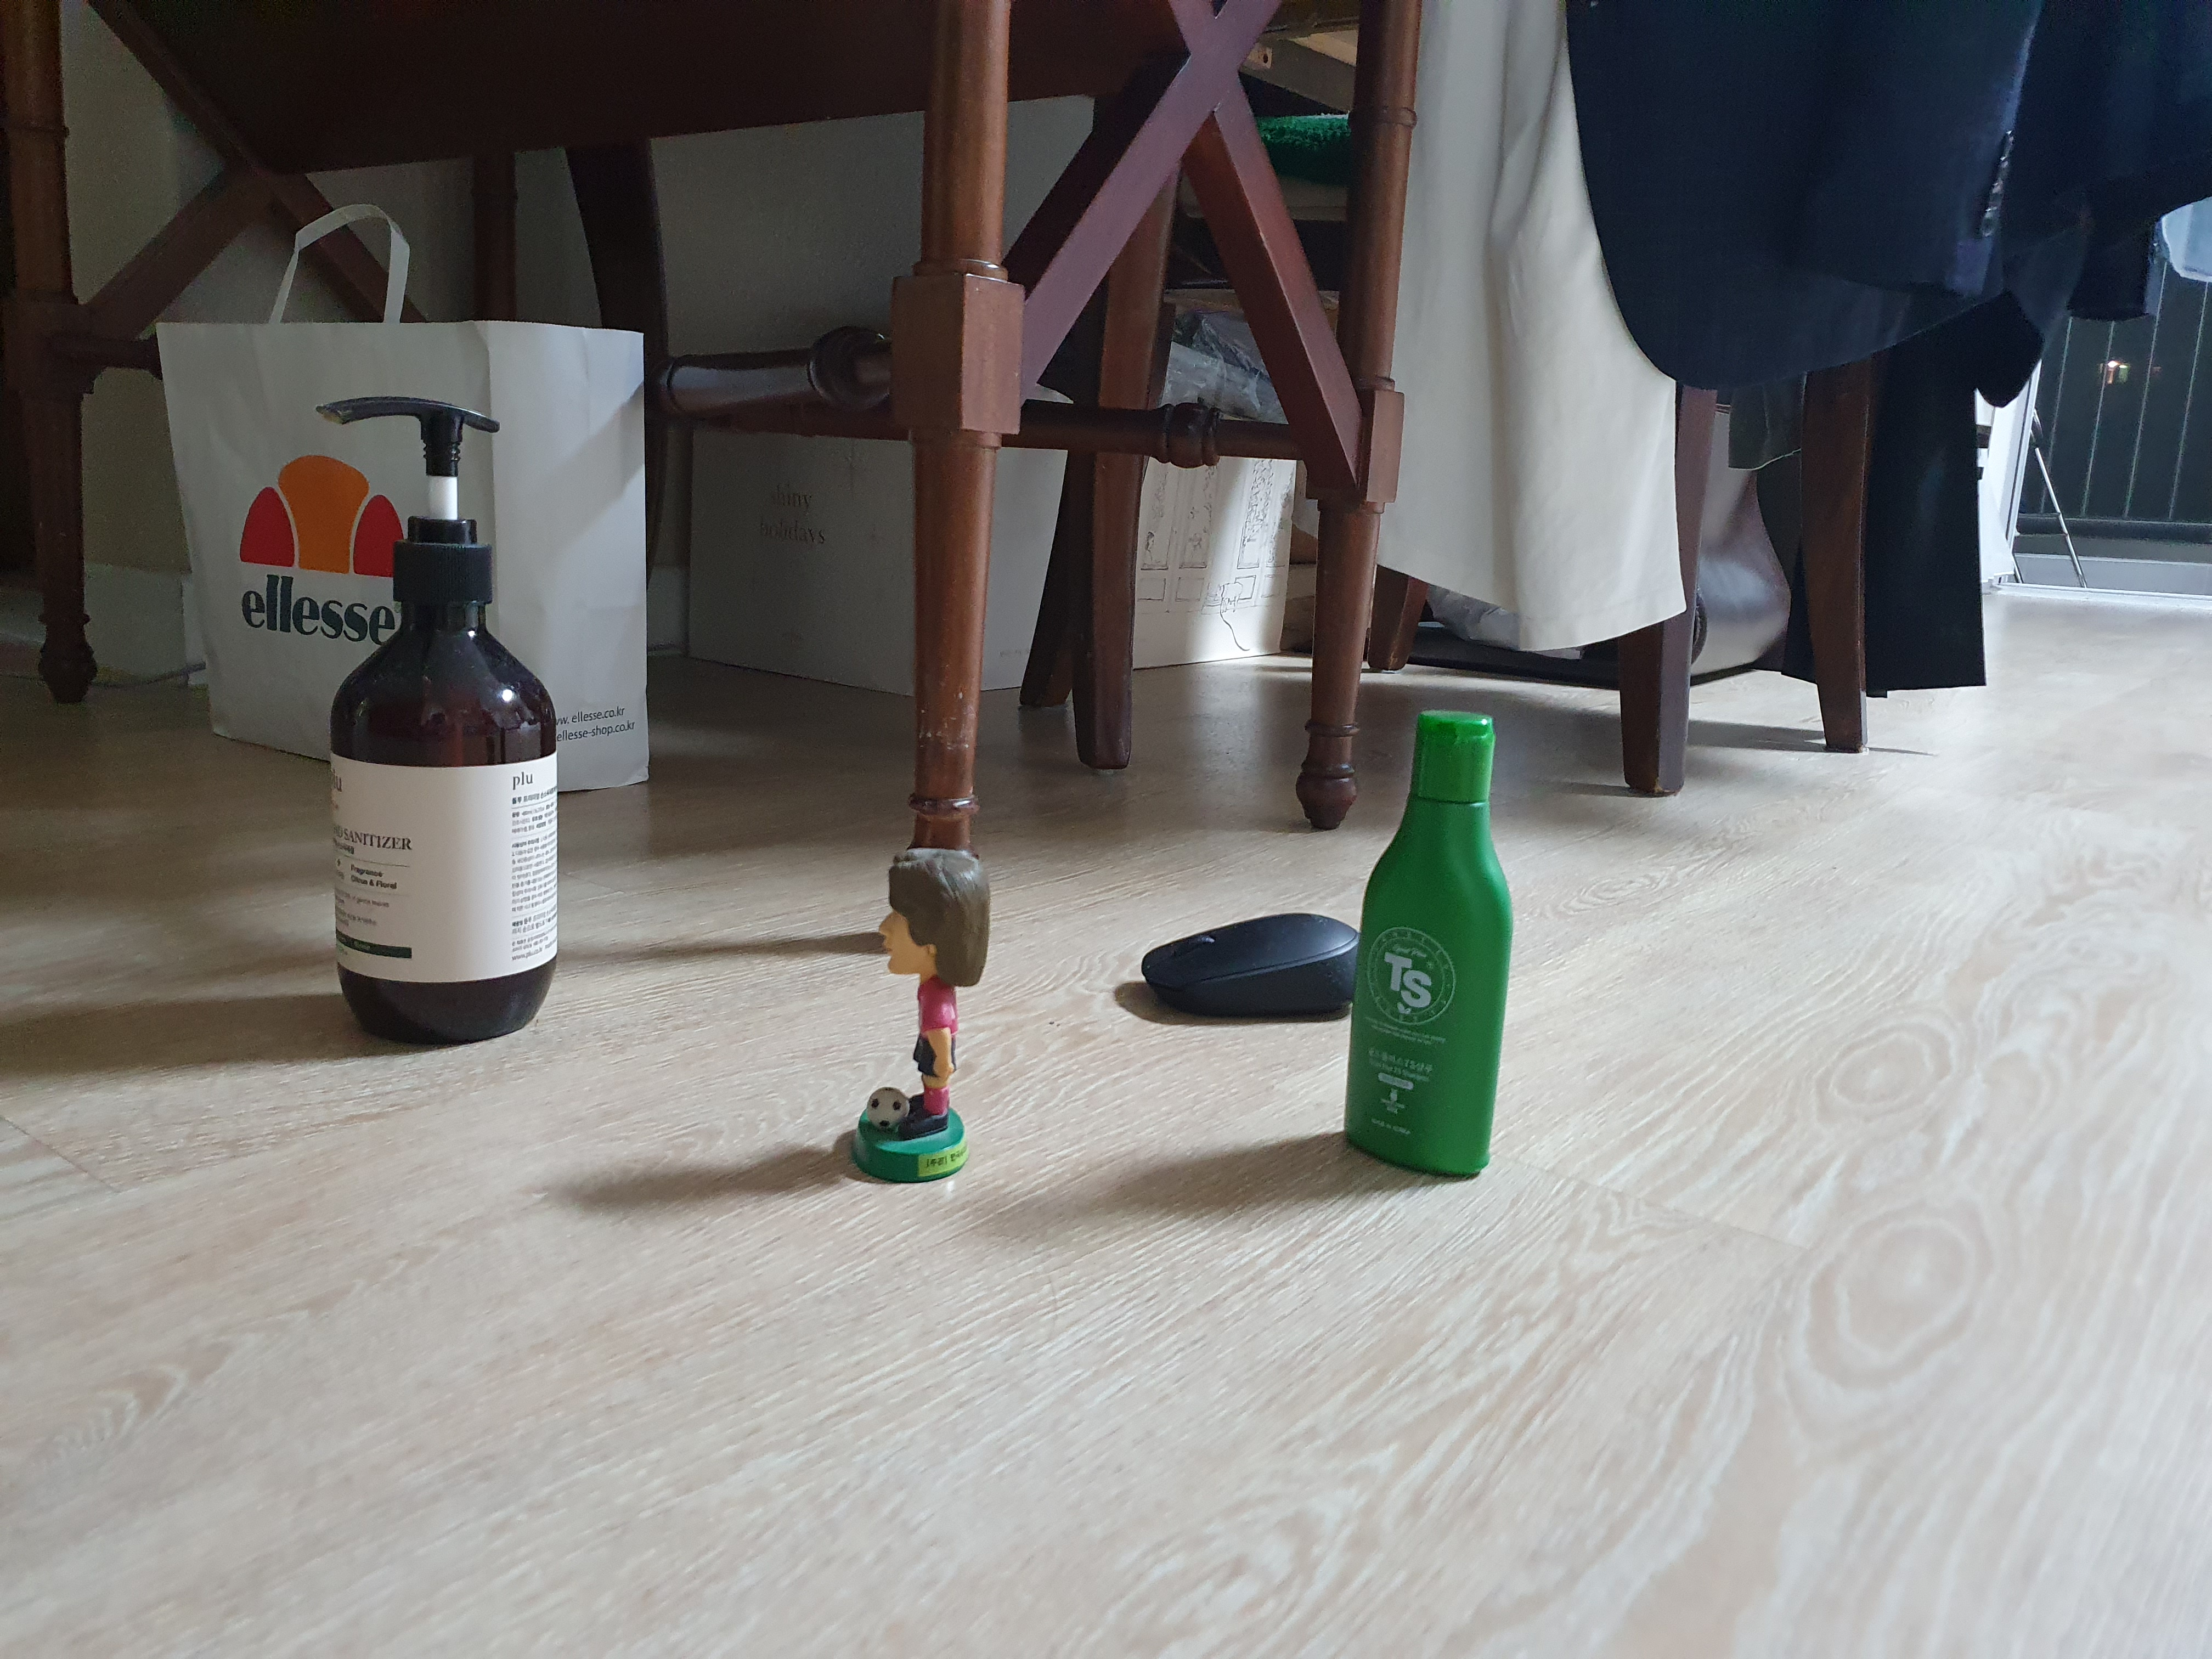bottle: (251, 373, 604, 1080)
mouse: (1146, 875, 1383, 1054)
shampoo: (1336, 697, 1564, 1236)
yoo: (822, 828, 1017, 1234)
